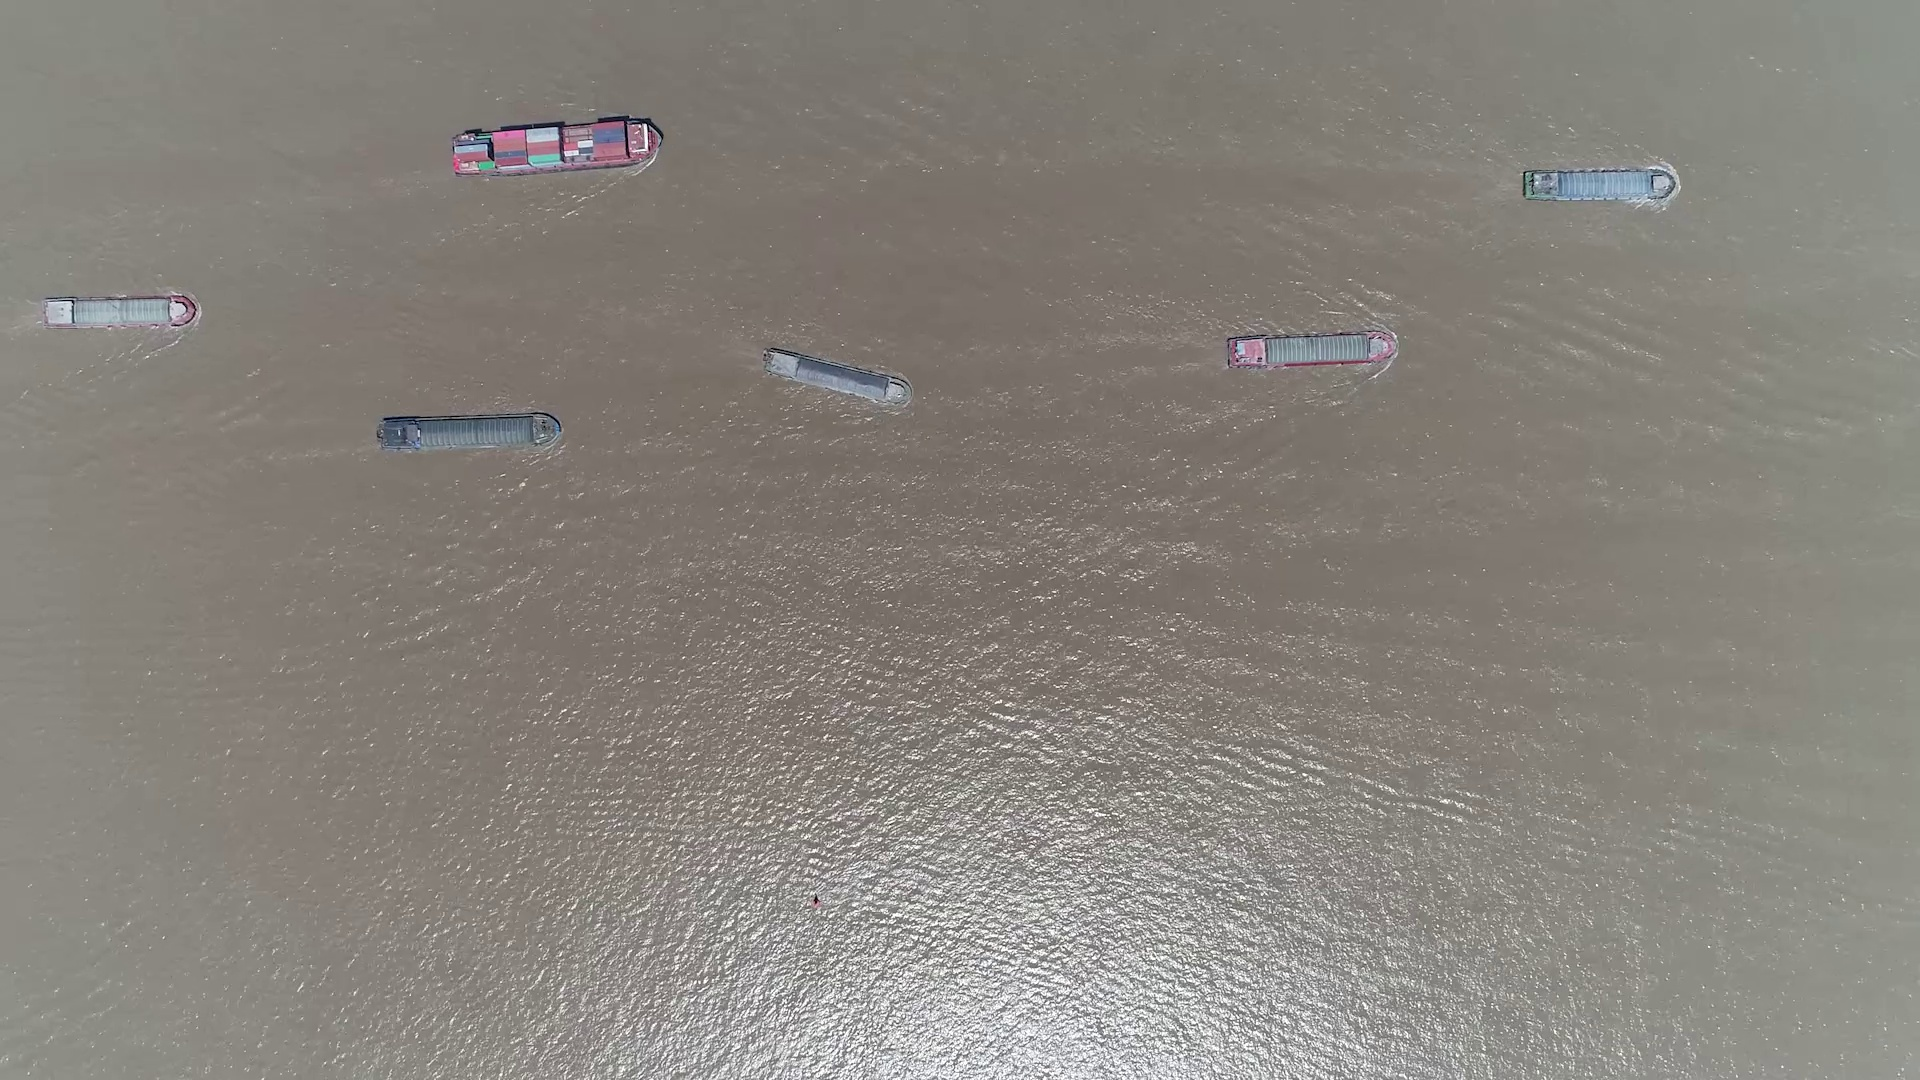ship: (450, 120, 658, 174), (764, 348, 909, 404), (377, 414, 558, 454), (1226, 331, 1398, 371), (41, 297, 196, 328), (1524, 170, 1671, 202)
